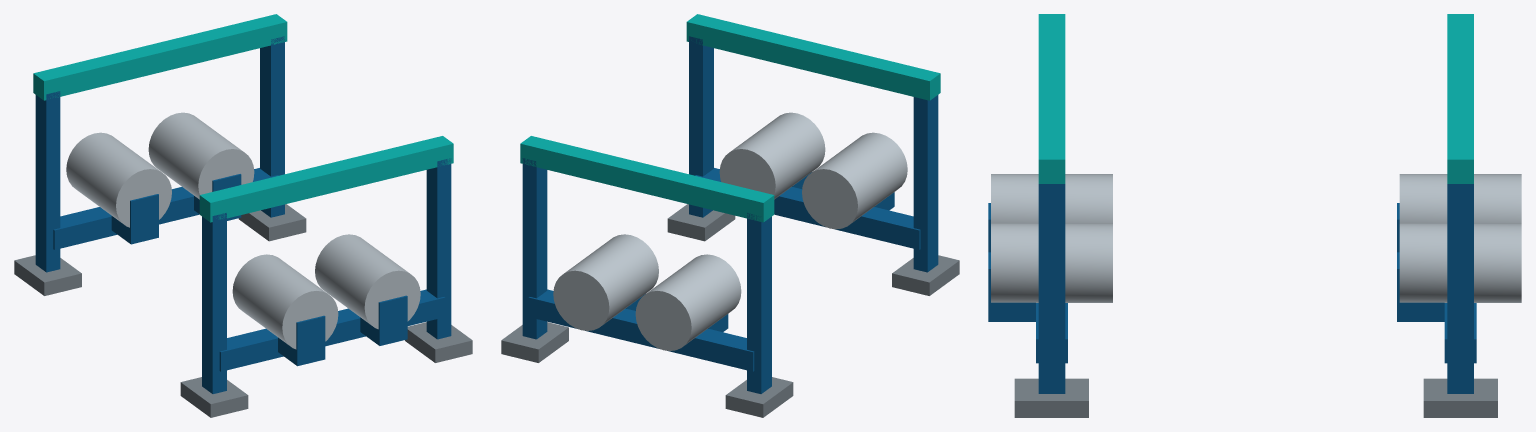
Rendered from inspection_stand.dae.
3 renders of one model, left to right at view 1: azimuth 30°, elevation 25°; view 2: azimuth 150°, elevation 25°; view 3: azimuth 270°, elevation 25°, orthographic. The views are drawn at different scales.
Parts seen in each view (by area): view 1: inspection_stand; view 2: inspection_stand; view 3: inspection_stand.
Boxes of the visible parts, x1=… form: inspection_stand: x1=14, y1=14, x2=472, y2=417; inspection_stand: x1=501, y1=14, x2=959, y2=417; inspection_stand: x1=988, y1=14, x2=1521, y2=417.
Bounding box in the file's own units: 1.4 × 2.01 × 1.05.
